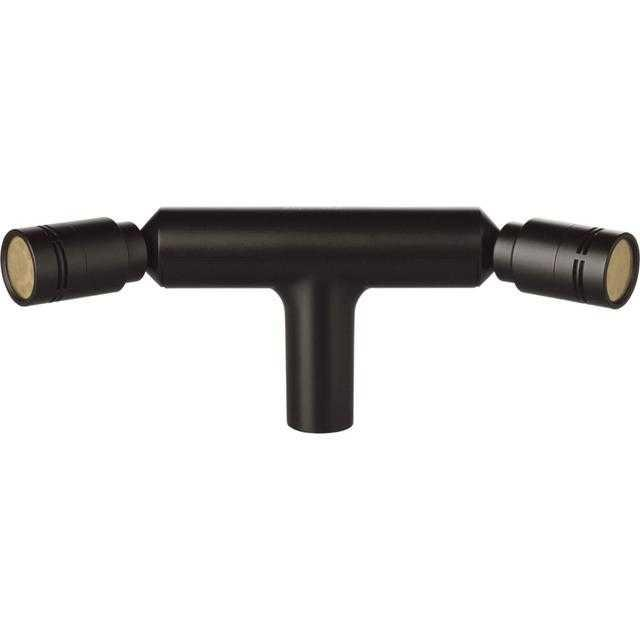microphone: (4, 215, 623, 296)
